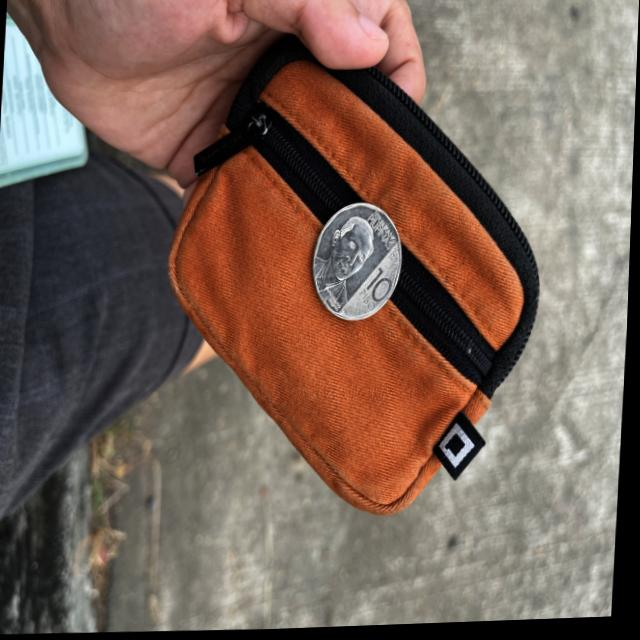10_New_Front: (357, 260, 399, 315)
